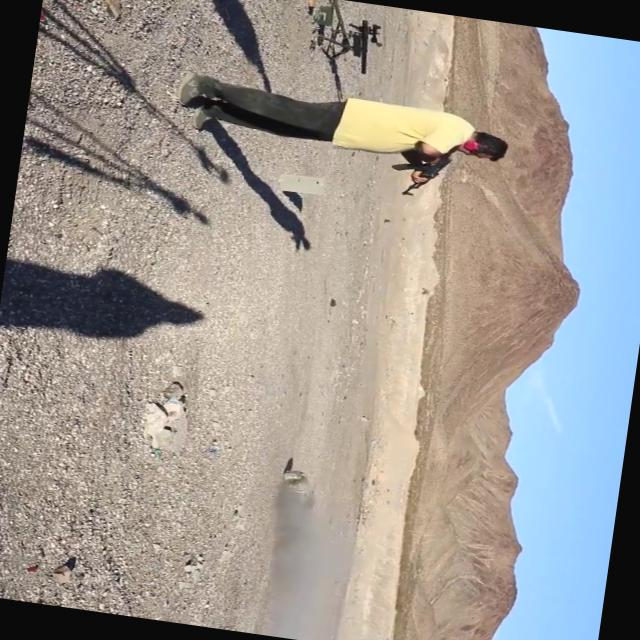long weapon: (386, 128, 471, 214), (326, 10, 396, 82)
